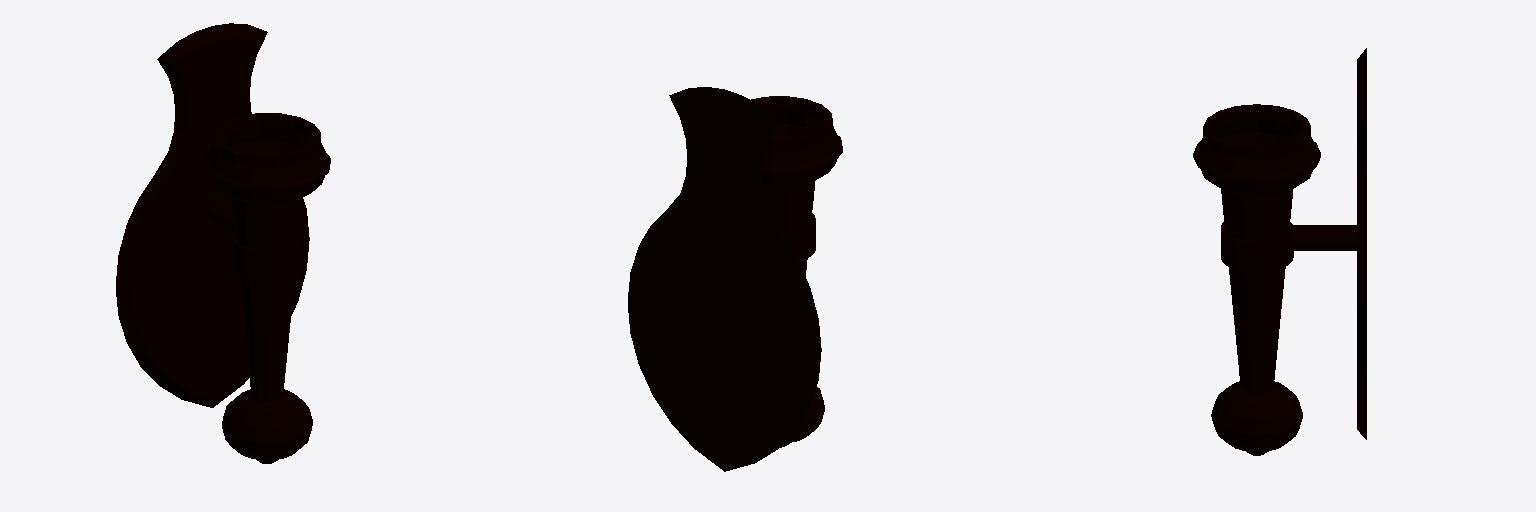
File: TorchModel.obj
3 renders of one model, left to right at view 1: azimuth 30°, elevation 25°; view 2: azimuth 150°, elevation 25°; view 3: azimuth 270°, elevation 25°, orthographic.
Parts seen in each view (by area): view 1: Cylinder; view 2: Cylinder; view 3: Cylinder.
Part boxes in pixels (left/top/right/bottom): Cylinder: left=116, top=23, right=330, bottom=463; Cylinder: left=628, top=87, right=842, bottom=471; Cylinder: left=1193, top=48, right=1366, bottom=455.
Size of the model in its own units: 1.04 by 2.04 by 0.8079.